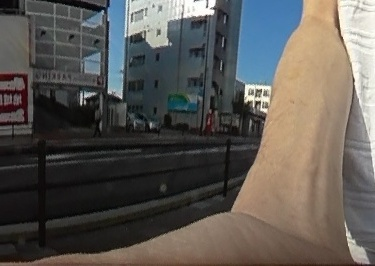person: (91, 102, 103, 137)
